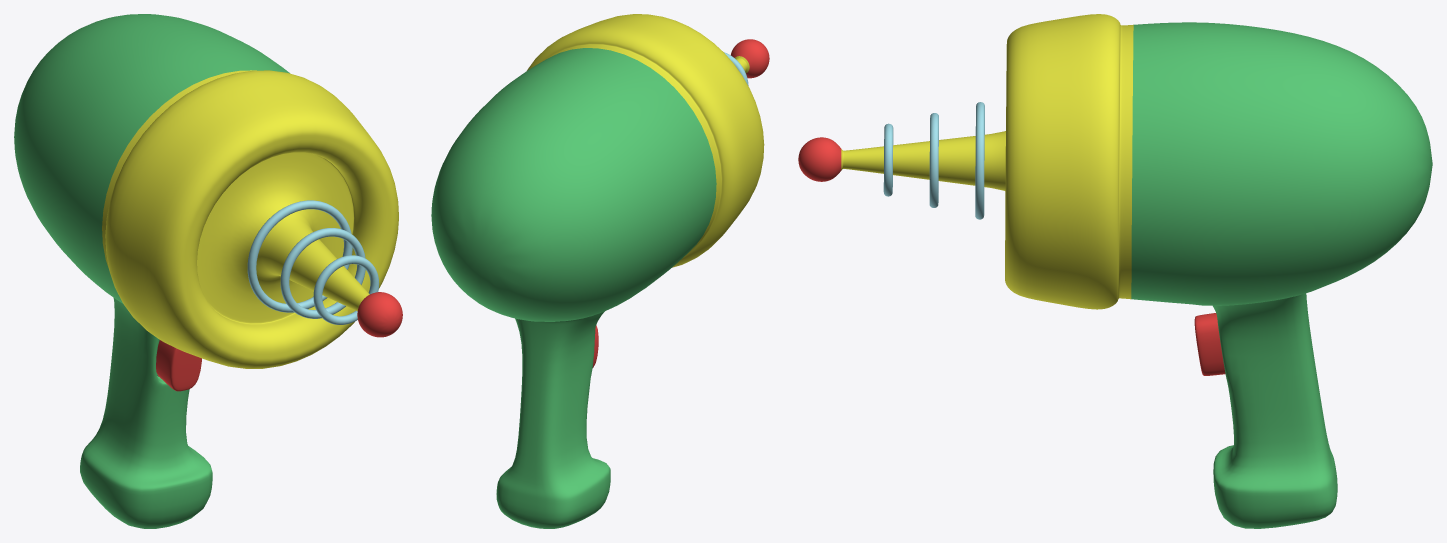
The model's file is Arma Alien.fbx.
3 views of the same model, side by side, from view 1: azimuth 30°, elevation 25°; view 2: azimuth 150°, elevation 25°; view 3: azimuth 270°, elevation 25° (orthographic). The views are drawn at different scales.
Parts seen in each view (by area): view 1: Arma Alien; view 2: Arma Alien; view 3: Arma Alien.
Boxes of the visible parts, x1,y1,x2,y2 form: Arma Alien: (14, 14, 402, 528); Arma Alien: (431, 14, 769, 528); Arma Alien: (798, 14, 1432, 528).
Bounding box in the file's own units: 13.99 × 25.78 × 29.98.
